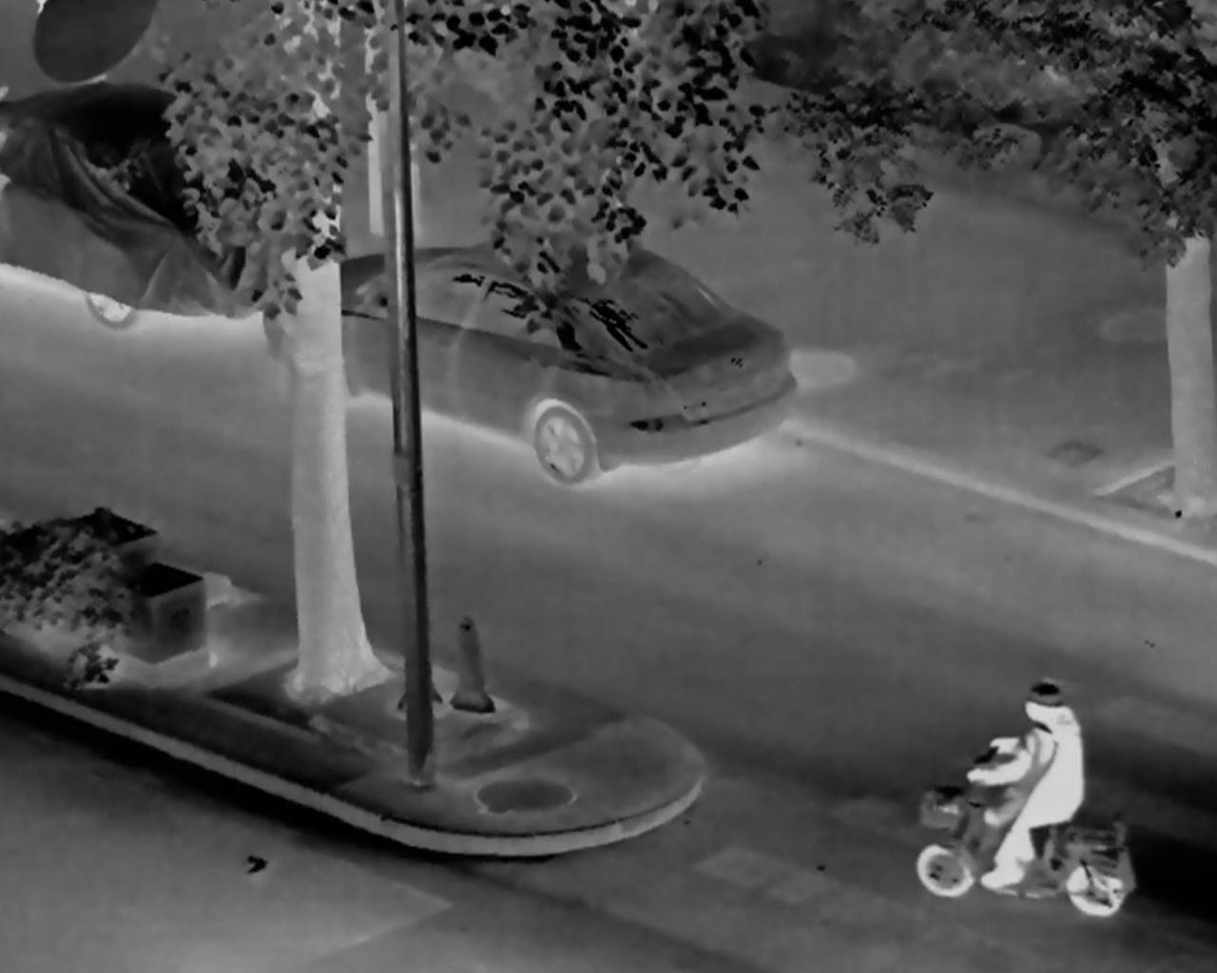person: (969, 678, 1087, 887)
